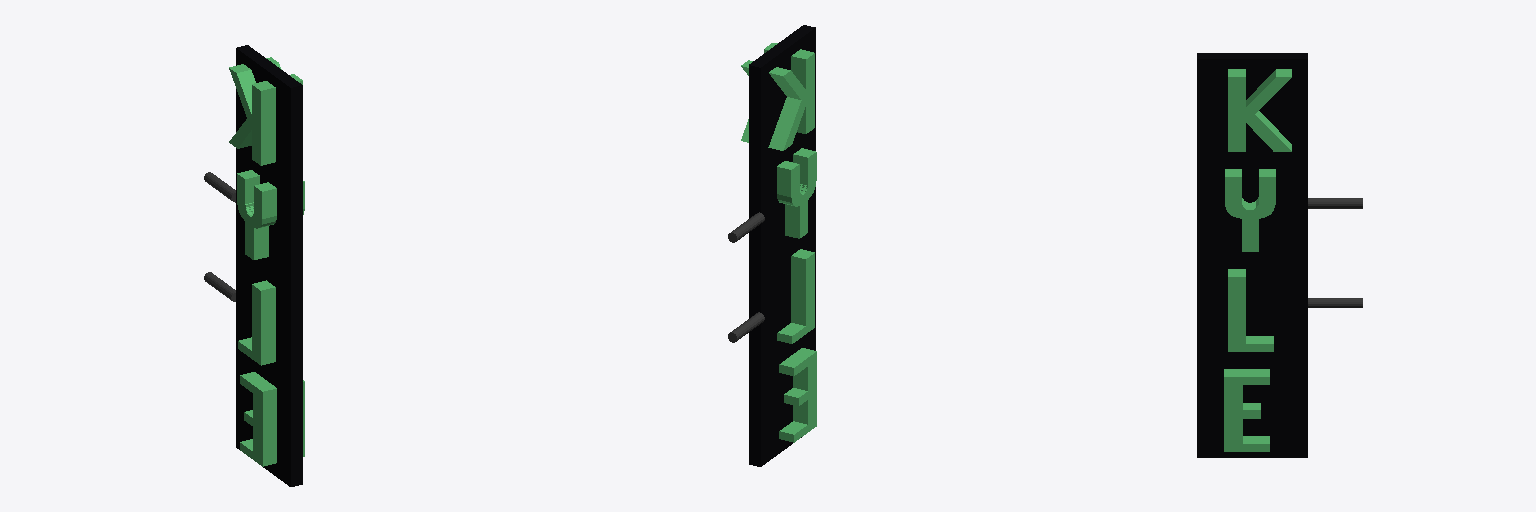
The model's file is KYLE.obj.
The picture shows the model from 3 angles: view 1: azimuth 30°, elevation 25°; view 2: azimuth 150°, elevation 25°; view 3: azimuth 270°, elevation 25°; orthographic projection.
Bounding box in the file's own units: 0.089 × 0.8 × 0.3.